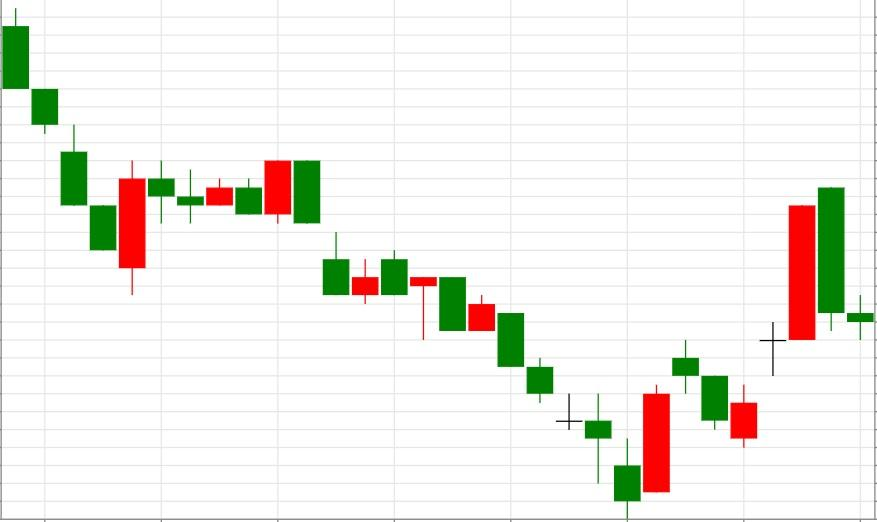bearish_engulfing_fall: (117, 160, 321, 296)
